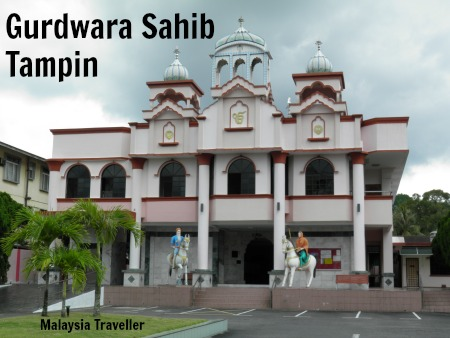Gurdwara: (27, 18, 371, 295)
